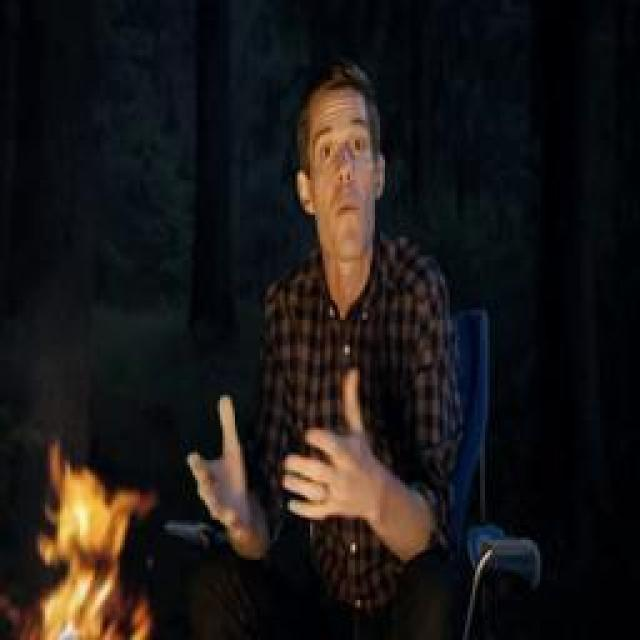Fire: (41, 437, 156, 640)
